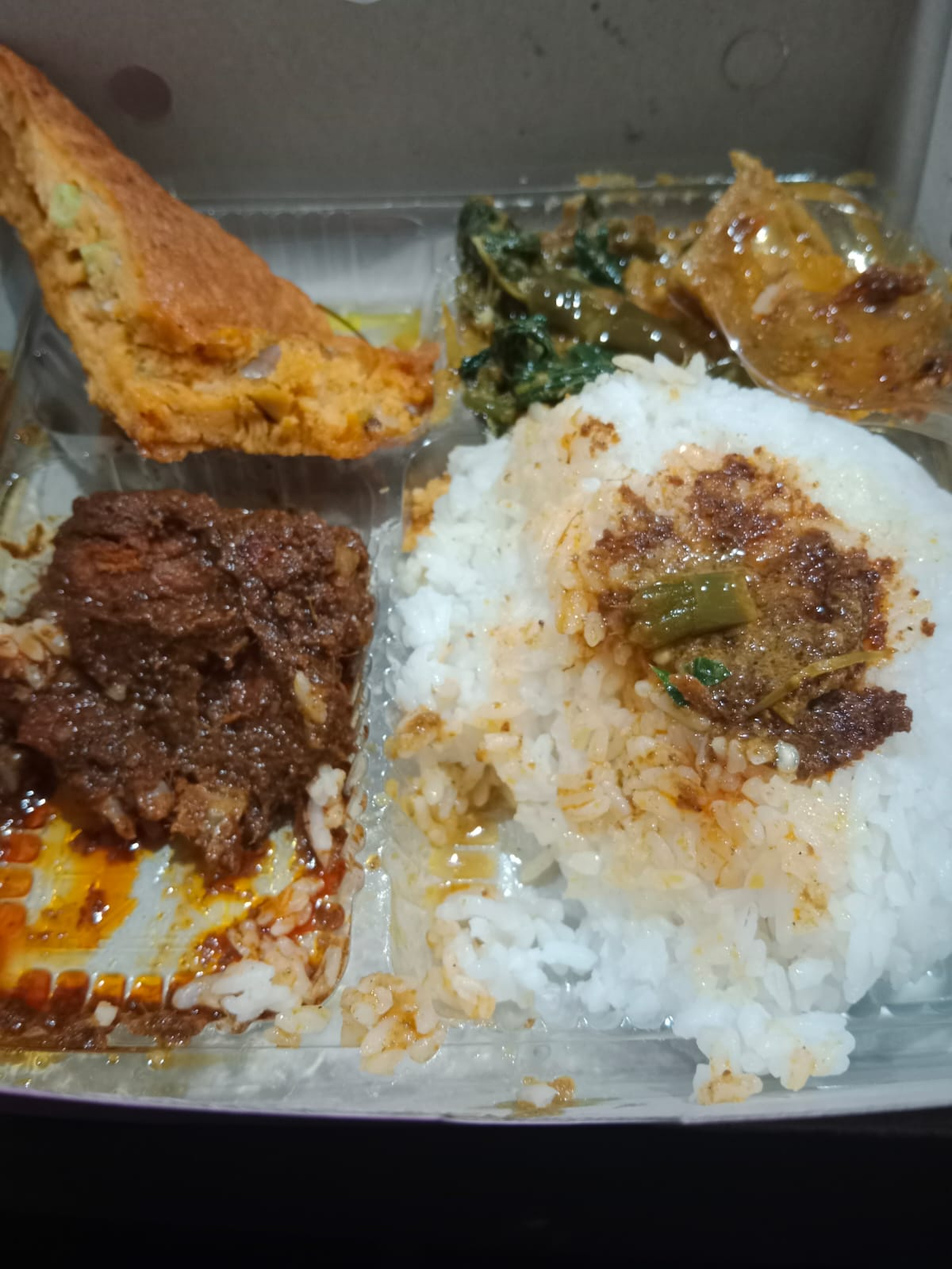daging: (35, 482, 363, 825)
makanan_berpati: (489, 435, 928, 1018)
